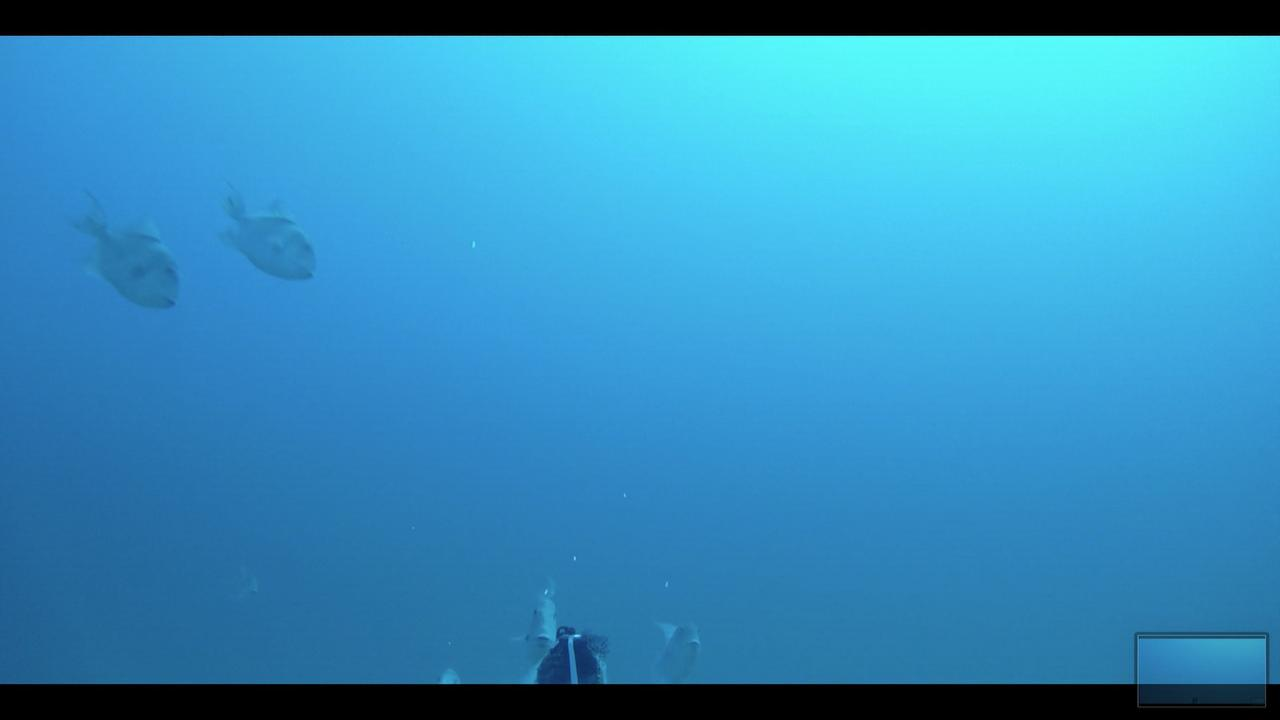balistes: (58, 180, 182, 312), (207, 170, 319, 281), (643, 610, 700, 681), (519, 575, 560, 669)
